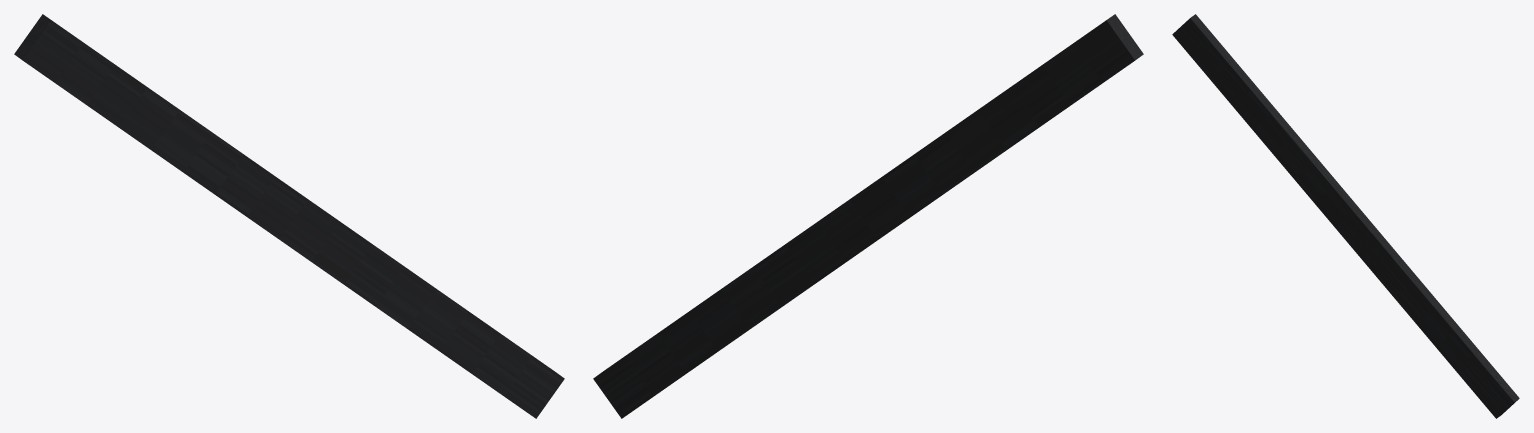
File: black_leaf_1_5_strut_a.obj
3 renders of one model, left to right at view 1: azimuth 30°, elevation 25°; view 2: azimuth 150°, elevation 25°; view 3: azimuth 330°, elevation 25°, orthographic. The views are drawn at different scales.
Parts seen in each view (by area): view 1: black_leaf_1_5_strut_a; view 2: black_leaf_1_5_strut_a; view 3: black_leaf_1_5_strut_a.
Part boxes in pixels (box(x1,y1,x2,y2)): black_leaf_1_5_strut_a: box(14, 14, 564, 418); black_leaf_1_5_strut_a: box(593, 14, 1143, 418); black_leaf_1_5_strut_a: box(1172, 14, 1519, 418).
Bounding box in the file's own units: 0.7918 × 0.7215 × 0.0219.
